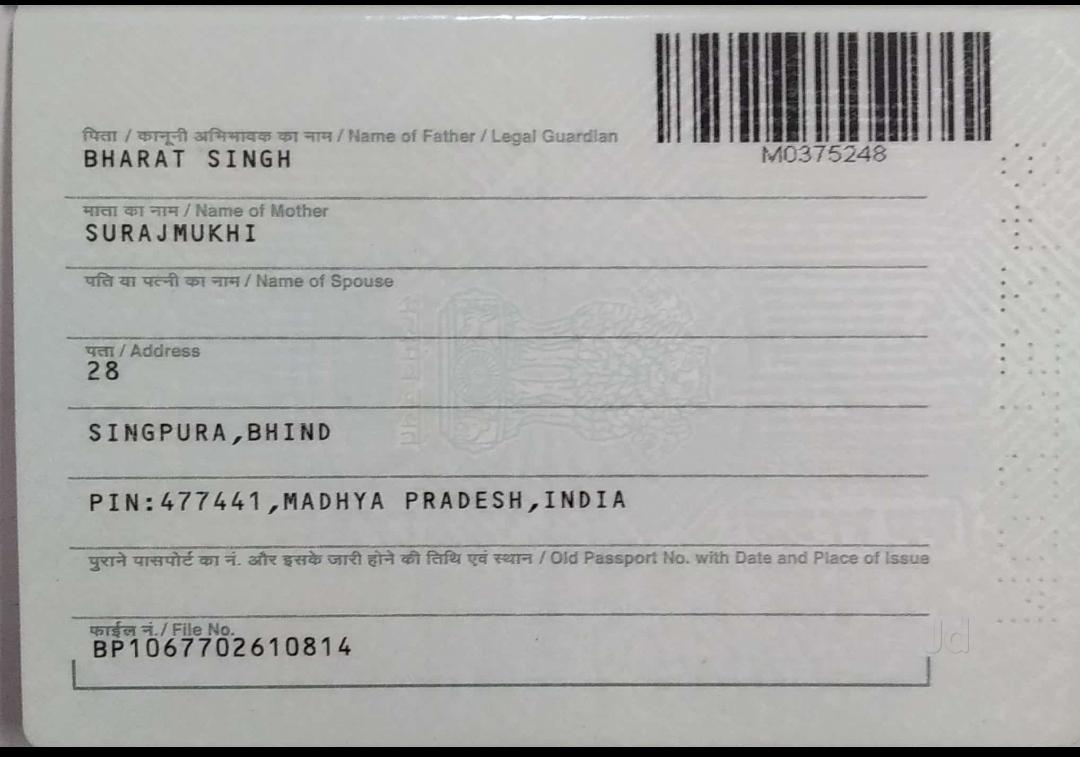File_no: (65, 628, 375, 666)
address: (52, 350, 720, 537)
father_name: (39, 140, 353, 183)
mother_name: (16, 212, 363, 258)
passport_no: (742, 132, 930, 171)
